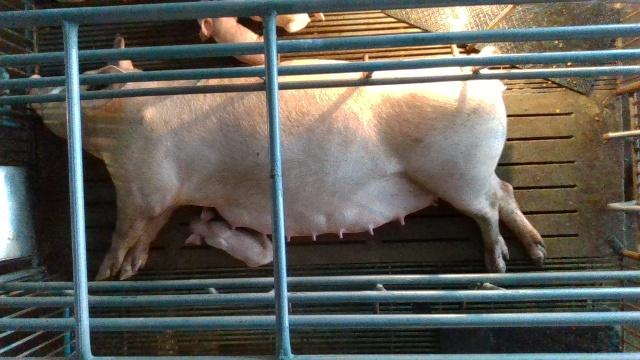piglet: (185, 207, 273, 269), (195, 17, 280, 66), (252, 13, 325, 34)
sow-sleep-lactate: (27, 34, 548, 276)
